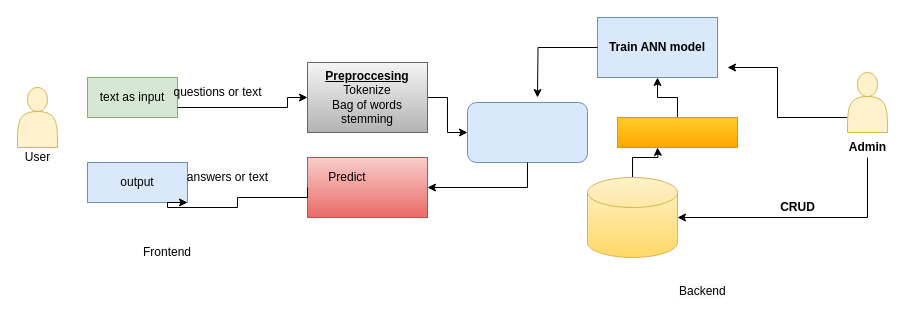
This 910x325 diagram has some shape labels left out. Here are the shapes that lost their labels. From the top down, the centre of each, then its label:
At (x=527, y=132): "Saved Model".
At (x=677, y=132): "Preprocessing".
At (x=632, y=217): "Database".
